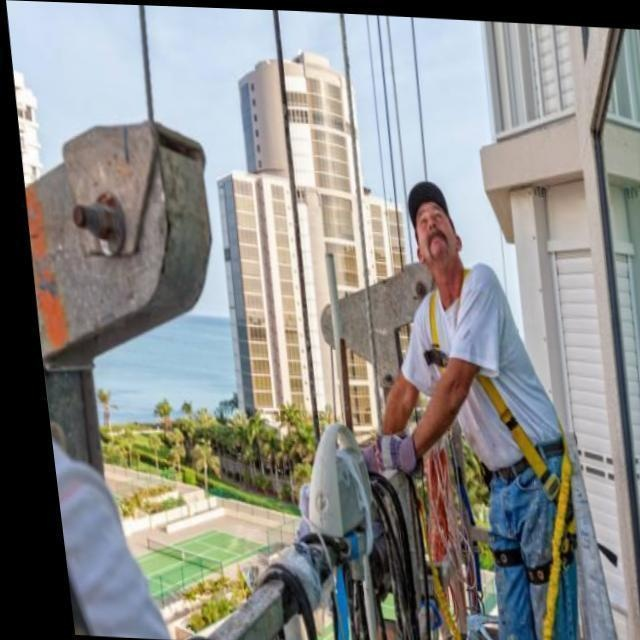Arnes_seguridad: (417, 290, 603, 561)
